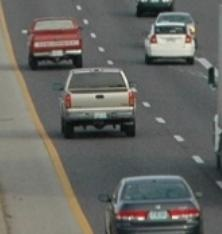car: (96, 170, 210, 234), (53, 66, 142, 134), (23, 15, 90, 68), (142, 22, 198, 65)
